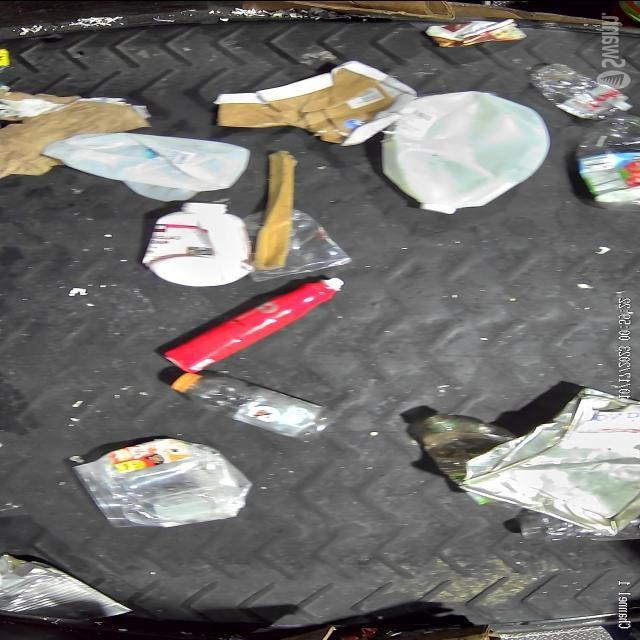milk_jug: (383, 89, 553, 212), (45, 128, 252, 198)
non_white_jug: (142, 200, 254, 286)
plastic_bottle: (172, 371, 334, 439), (526, 61, 632, 121), (575, 112, 640, 206)
